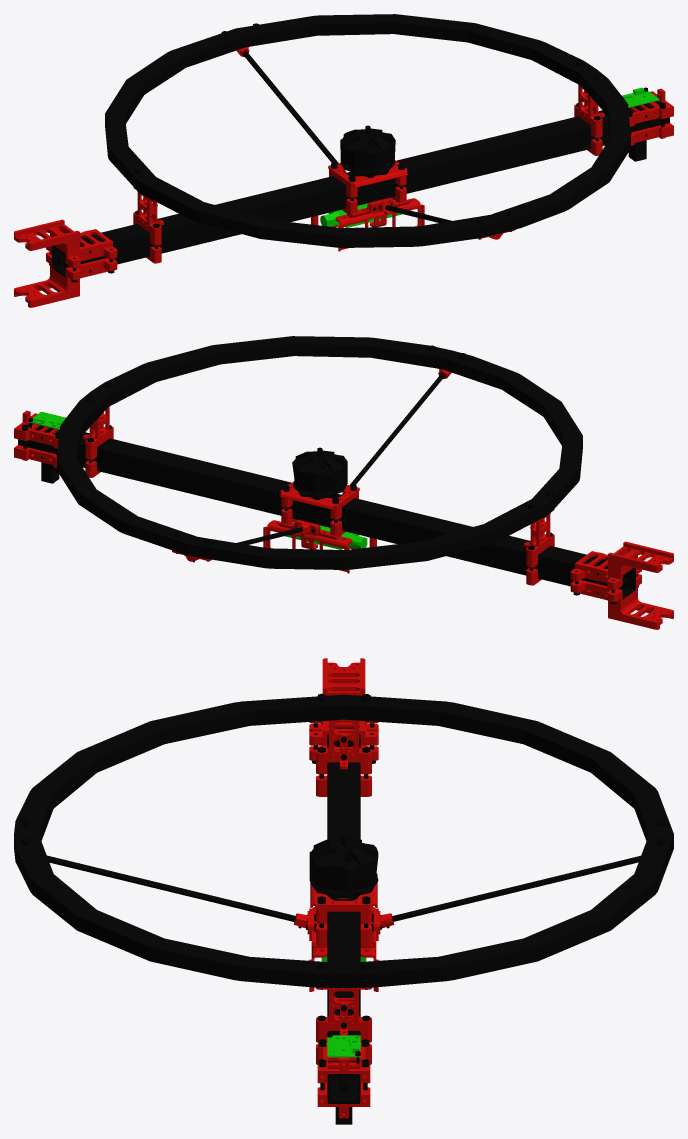
Rendered from end_link.dae.
3 renders of one model, top to bottom at view 1: azimuth 30°, elevation 25°; view 2: azimuth 150°, elevation 25°; view 3: azimuth 270°, elevation 25°, orthographic. The views are drawn at different scales.
Parts seen in each view (by area): view 1: End_Link_Black_Part, End_Link_Red_Part, End_Link_Green_Part; view 2: End_Link_Black_Part, End_Link_Red_Part, End_Link_Green_Part; view 3: End_Link_Black_Part, End_Link_Red_Part, End_Link_Green_Part.
Boxes of the visible parts, x1,y1,x2,y2 form: End_Link_Black_Part: (49, 14, 669, 282); End_Link_Red_Part: (14, 46, 673, 307); End_Link_Green_Part: (320, 87, 659, 227); End_Link_Black_Part: (18, 336, 638, 604); End_Link_Red_Part: (14, 368, 673, 629); End_Link_Green_Part: (28, 411, 367, 549); End_Link_Black_Part: (14, 693, 673, 1124); End_Link_Red_Part: (293, 658, 394, 1118); End_Link_Green_Part: (321, 956, 366, 1057).
Size of the model in its own units: 0.5605 by 0.4 by 0.0912.
